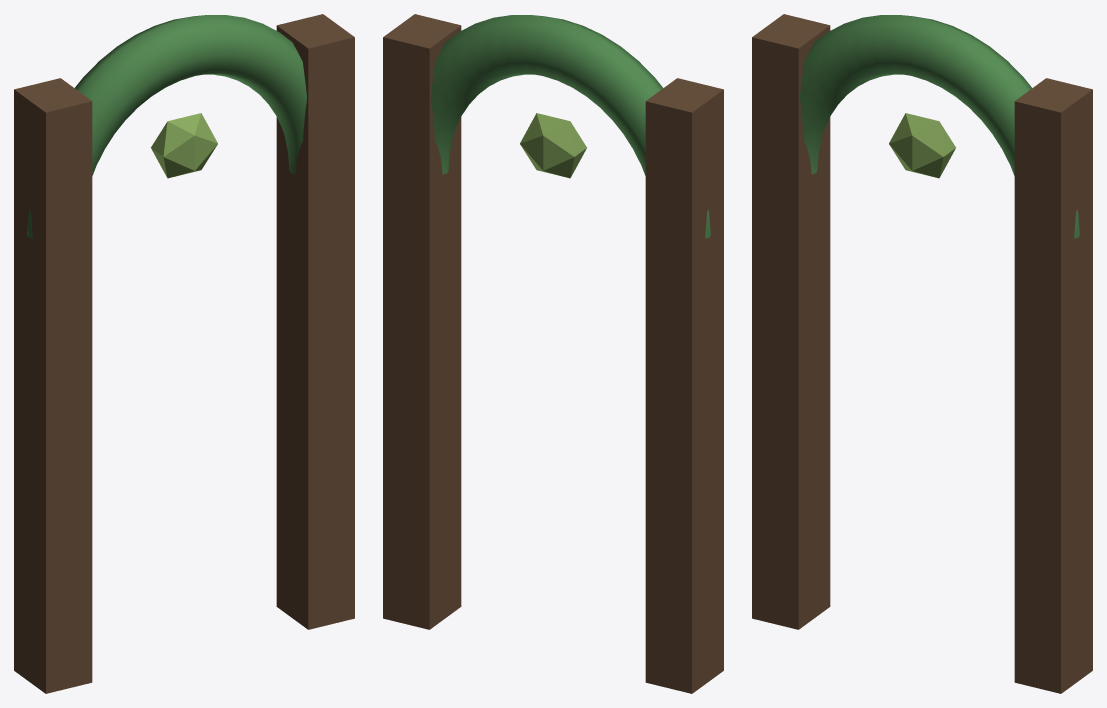
Rendered from shrine_column_ring.glb.
The picture shows the model from 3 angles, left to right: view 1: azimuth 30°, elevation 25°; view 2: azimuth 150°, elevation 25°; view 3: azimuth 330°, elevation 25°; orthographic projection.
Parts seen in each view (by area): view 1: pillar_-1, pillar_1, arch, keystone; view 2: pillar_-1, pillar_1, arch, keystone; view 3: pillar_1, pillar_-1, arch, keystone.
Part boxes in pixels (bbox=[...]): pillar_-1: bbox=[14, 78, 92, 693]; pillar_1: bbox=[276, 14, 354, 629]; arch: bbox=[27, 15, 306, 238]; keystone: bbox=[151, 113, 217, 178]; pillar_-1: bbox=[645, 78, 723, 693]; pillar_1: bbox=[383, 14, 461, 629]; arch: bbox=[431, 15, 710, 238]; keystone: bbox=[520, 113, 586, 178]; pillar_1: bbox=[1014, 78, 1092, 693]; pillar_-1: bbox=[752, 14, 830, 629]; arch: bbox=[800, 15, 1079, 238]; keystone: bbox=[889, 113, 955, 178].
Size of what is drawn, in the model's own units: 3.7 by 7.06 by 0.65.
